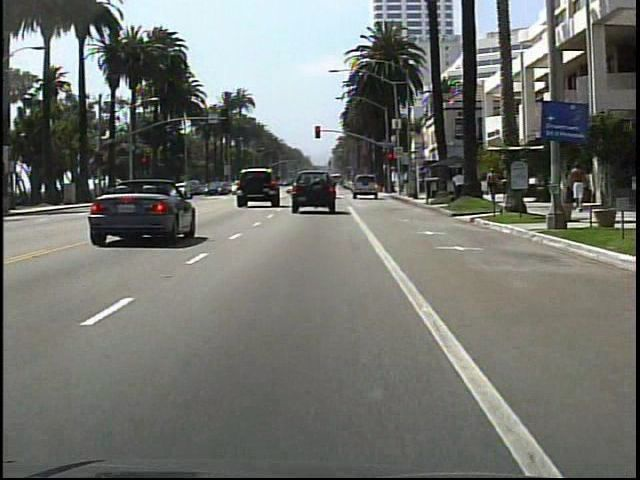person: (567, 159, 585, 215), (450, 167, 470, 202), (486, 166, 500, 208)
